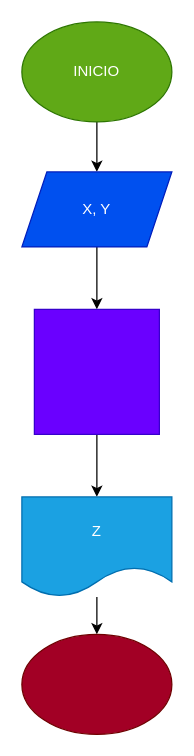
This 194x756 diagram has some shape labels left out. The centre of each missing label's shape, as x and y in pixels:
FIN: pixel 96 683
Z = X ^ Y: pixel 96 371
